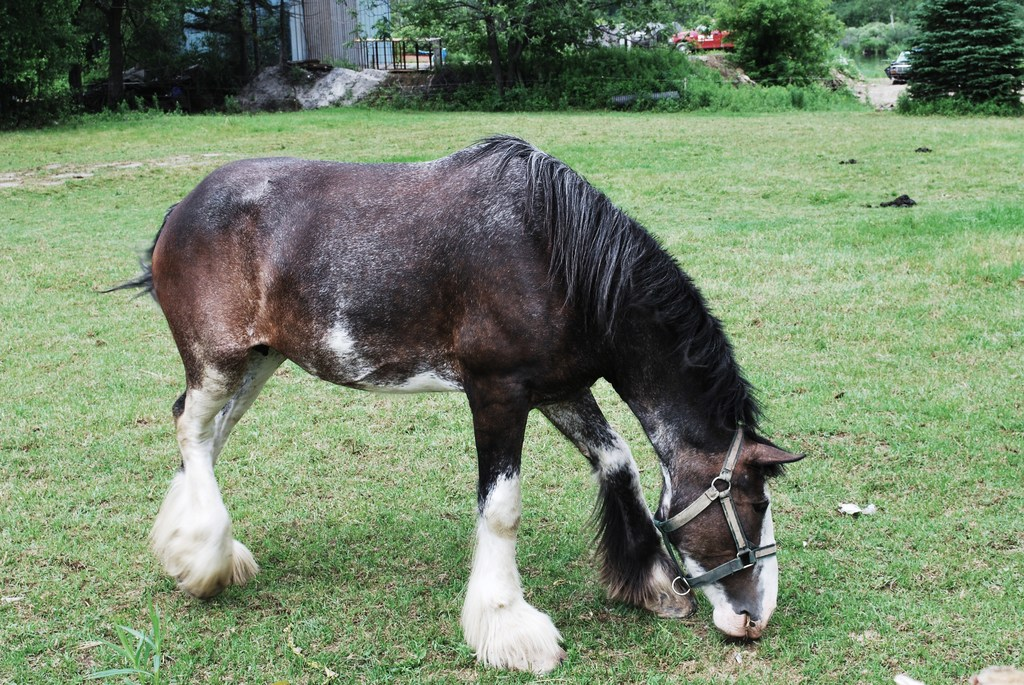horse: (94, 132, 809, 674)
